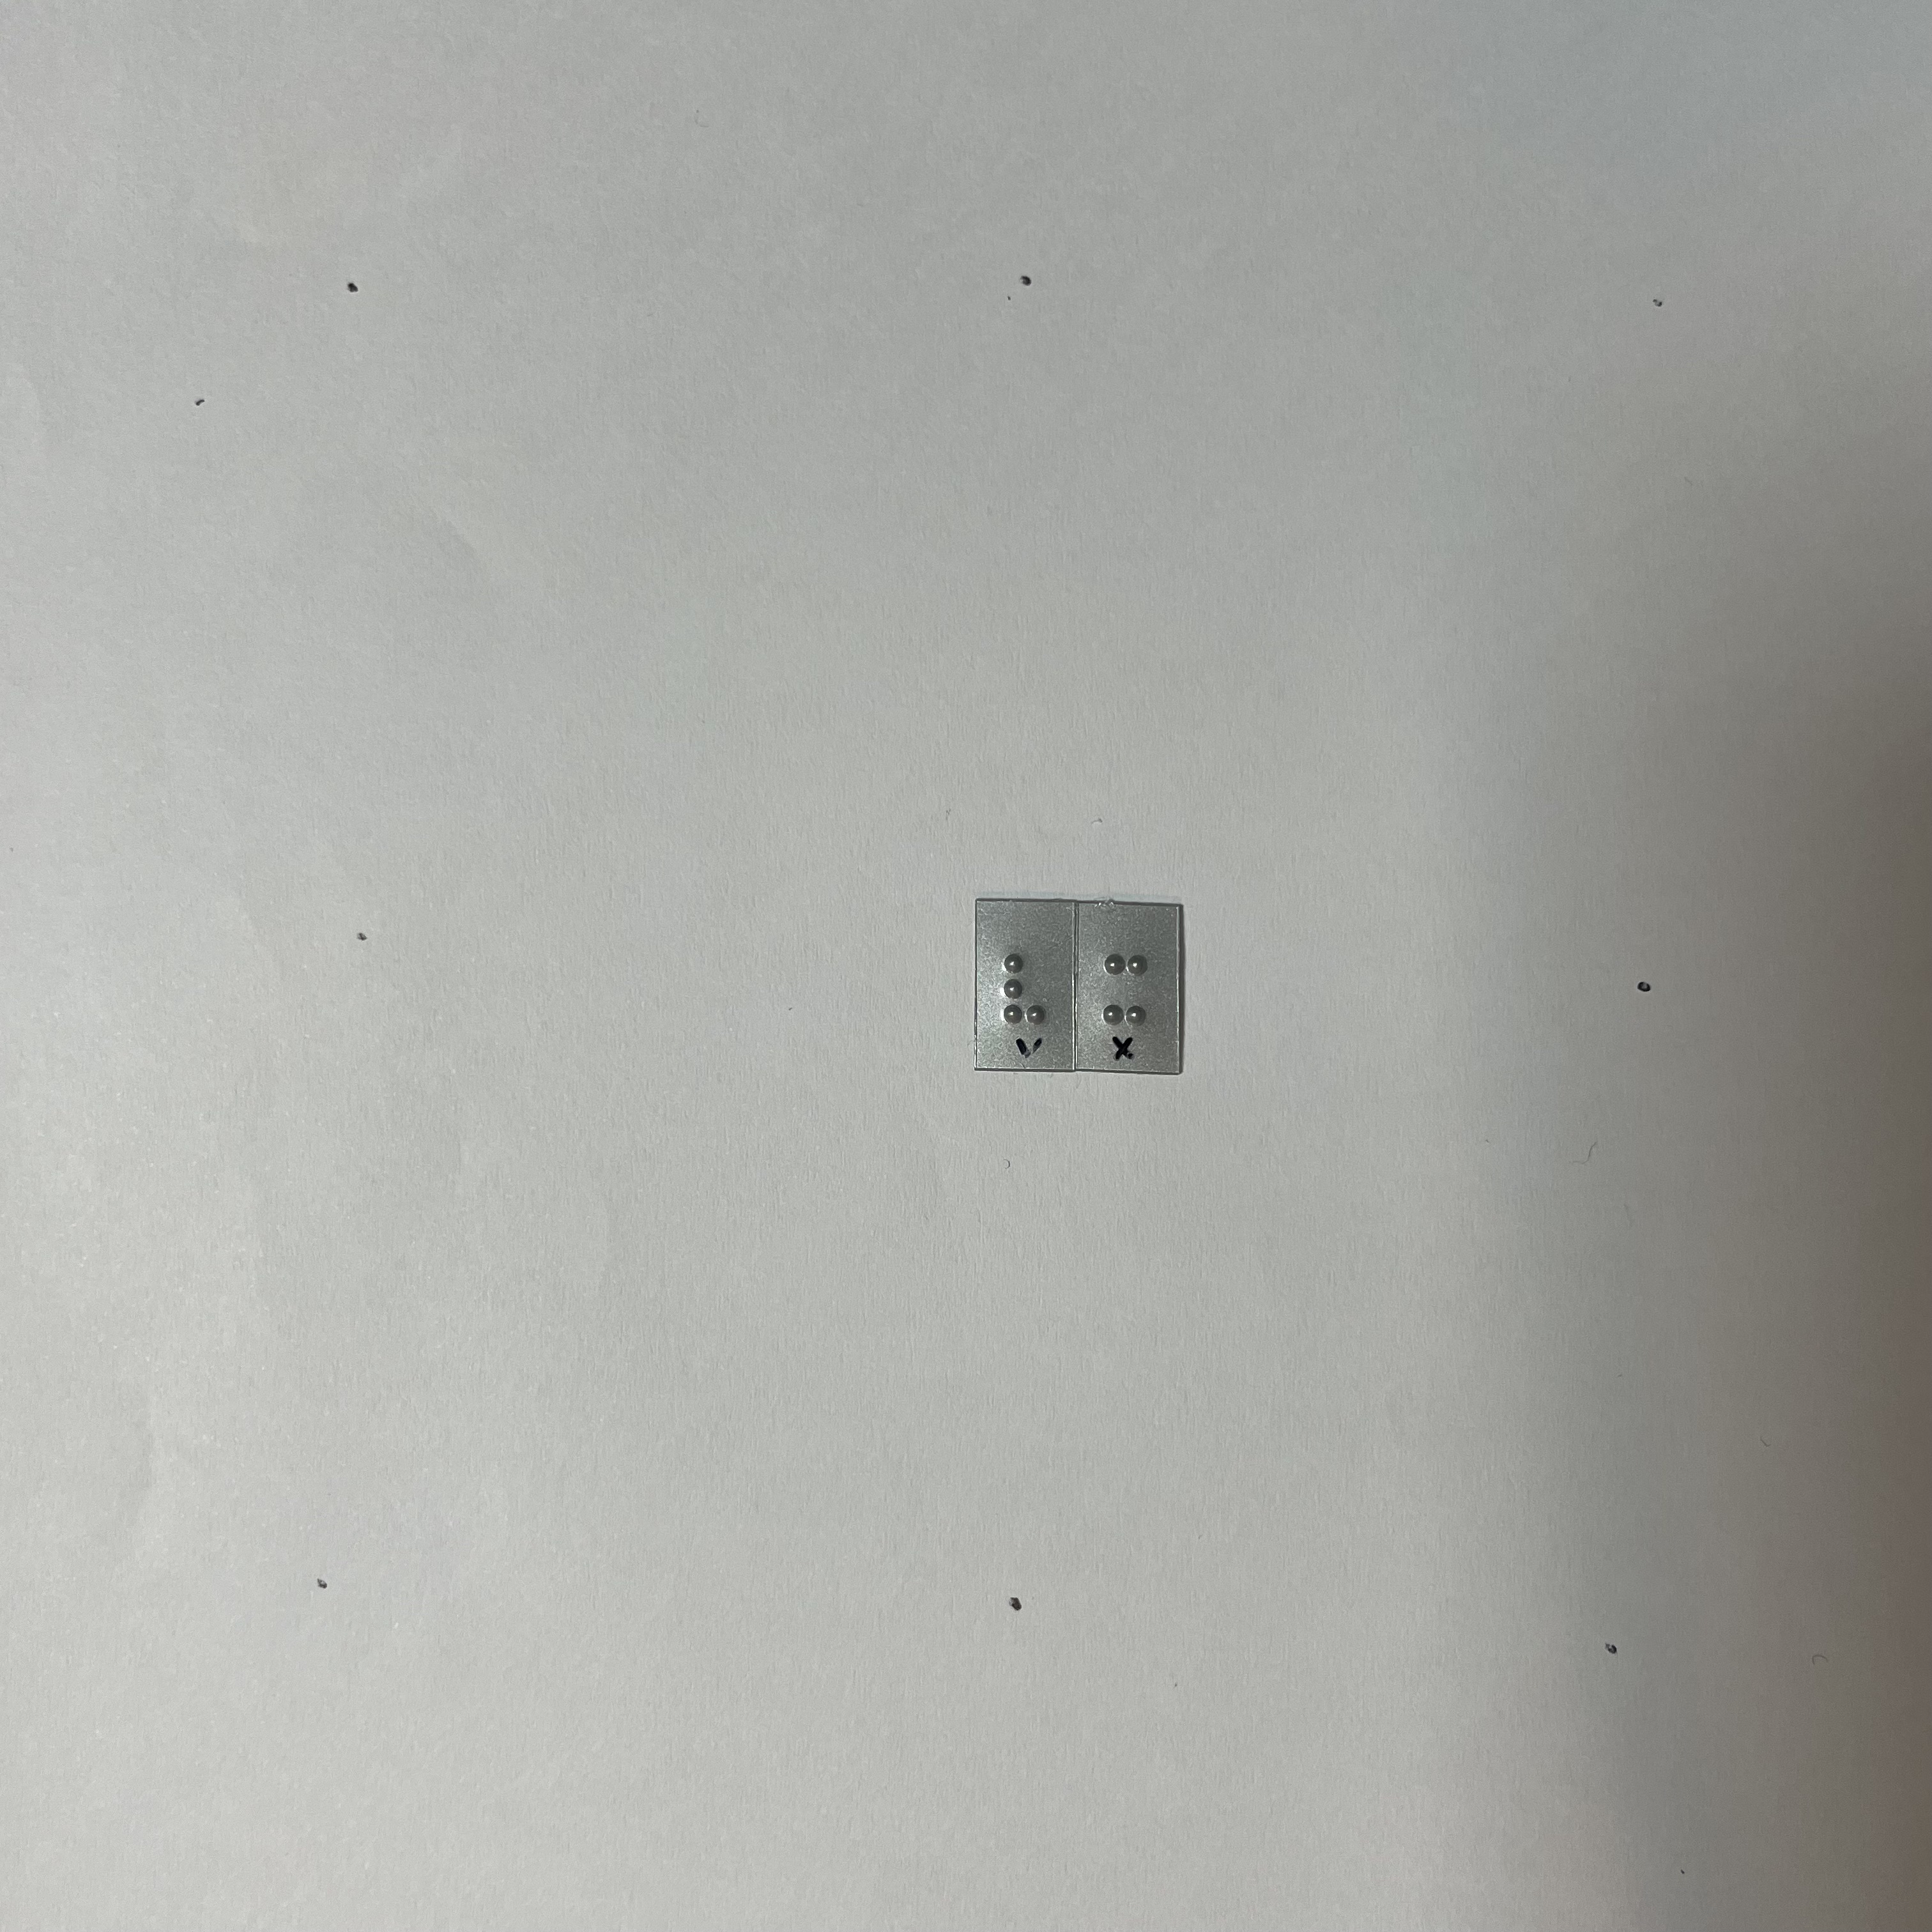v: (996, 940, 1052, 1027)
x: (1098, 939, 1159, 1031)
